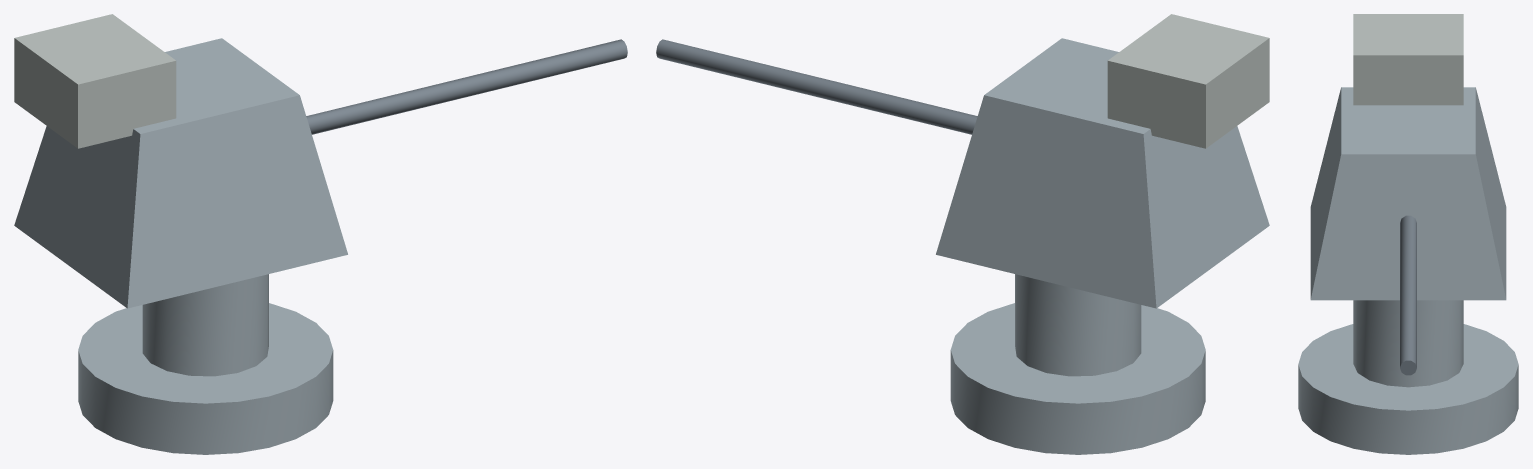
Rendered from pla_hpj13_30mm.glb.
3 renders of one model, left to right at view 1: azimuth 30°, elevation 25°; view 2: azimuth 150°, elevation 25°; view 3: azimuth 270°, elevation 25°, orthographic. The views are drawn at different scales.
Parts seen in each view (by area): view 1: naval_paint, array_face, titanium; view 2: naval_paint, array_face, titanium; view 3: naval_paint, array_face, titanium.
Part boxes in pixels (x1,y1,x2,y2): naval_paint: (14, 38, 347, 454); array_face: (14, 14, 176, 148); titanium: (306, 39, 627, 134); naval_paint: (936, 38, 1269, 454); array_face: (1107, 14, 1269, 148); titanium: (656, 39, 977, 134); naval_paint: (1298, 87, 1518, 454); array_face: (1353, 14, 1463, 105); titanium: (1400, 215, 1416, 375).
Bounding box in the file's own units: 10 × 6.28 × 3.83.
